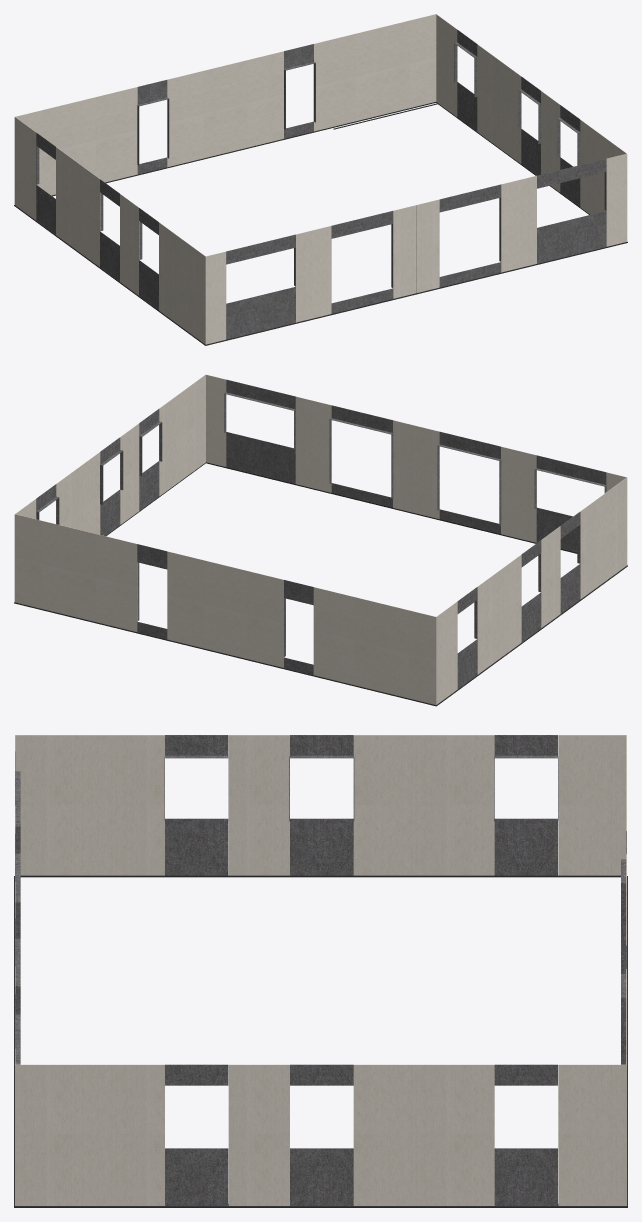
Rendered from Fassaadi_viimistlus_A.glb.
3 views of the same model, one above another, from view 1: azimuth 30°, elevation 25°; view 2: azimuth 150°, elevation 25°; view 3: azimuth 270°, elevation 25° (orthographic). The views are drawn at different scales.
Parts seen in each view (by area): view 1: Kiudtsementplaat_045 (×2), Kiudtsementplaat_046 (×2), Veeplekk_elementide_vahel_062; view 2: Kiudtsementplaat_045 (×2), Kiudtsementplaat_046 (×2), Veeplekk_elementide_vahel_062; view 3: Kiudtsementplaat_045 (×2), Veeplekk_elementide_vahel_045 (×2), Kiudtsementplaat_046 (×2).
Boxes of the visible parts, left/top/right/bottom form: Kiudtsementplaat_045 (×2): left=14, top=14, right=627, bottom=344; Kiudtsementplaat_046 (×2): left=206, top=153, right=626, bottom=344; Veeplekk_elementide_vahel_062: left=52, top=102, right=435, bottom=196; Kiudtsementplaat_045 (×2): left=14, top=374, right=627, bottom=704; Kiudtsementplaat_046 (×2): left=206, top=374, right=626, bottom=552; Veeplekk_elementide_vahel_062: left=14, top=602, right=436, bottom=706; Kiudtsementplaat_045 (×2): left=15, top=735, right=626, bottom=1205; Veeplekk_elementide_vahel_045 (×2): left=14, top=875, right=627, bottom=1207; Kiudtsementplaat_046 (×2): left=15, top=735, right=20, bottom=1064.
Bounding box in the file's own units: 15.65 × 3.15 × 12.29.
Materials: 3 (2 with a texture image).
